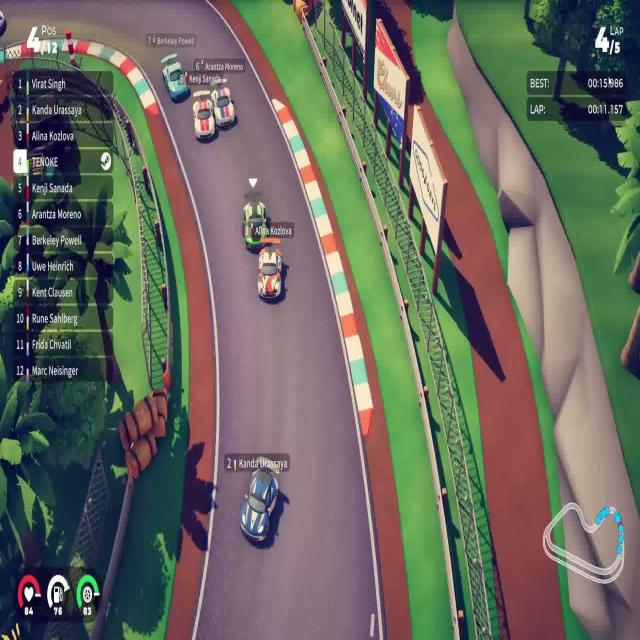car: (239, 466, 279, 544), (256, 244, 283, 301), (242, 199, 271, 252), (161, 59, 190, 102), (210, 82, 235, 128), (192, 96, 216, 142)
